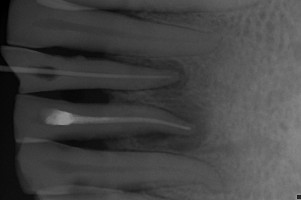Furcation Involvement: (134, 58, 211, 150)
